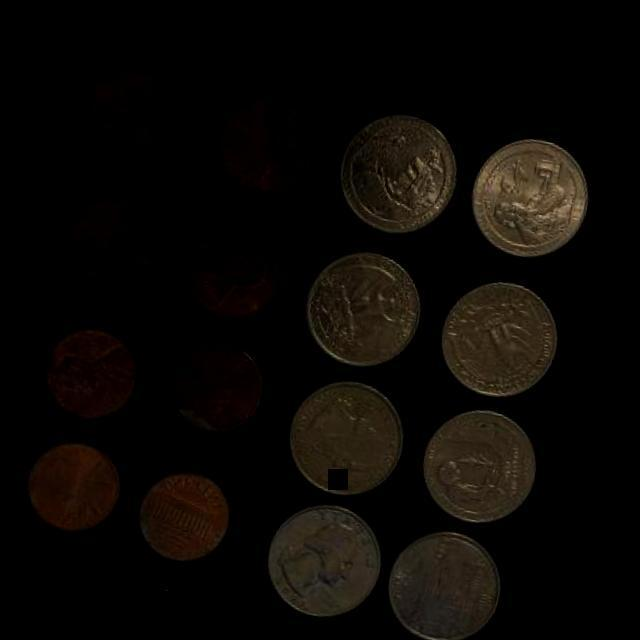Penny: (51, 180, 171, 300), (72, 56, 192, 176), (206, 90, 322, 204), (173, 216, 288, 330), (16, 431, 130, 541), (33, 315, 143, 428), (158, 330, 271, 440), (127, 460, 236, 570)
Quarter: (326, 102, 464, 246), (460, 127, 598, 270), (294, 240, 432, 381), (410, 396, 546, 534), (431, 268, 566, 406), (277, 370, 413, 506), (255, 494, 390, 628), (378, 521, 510, 640)
